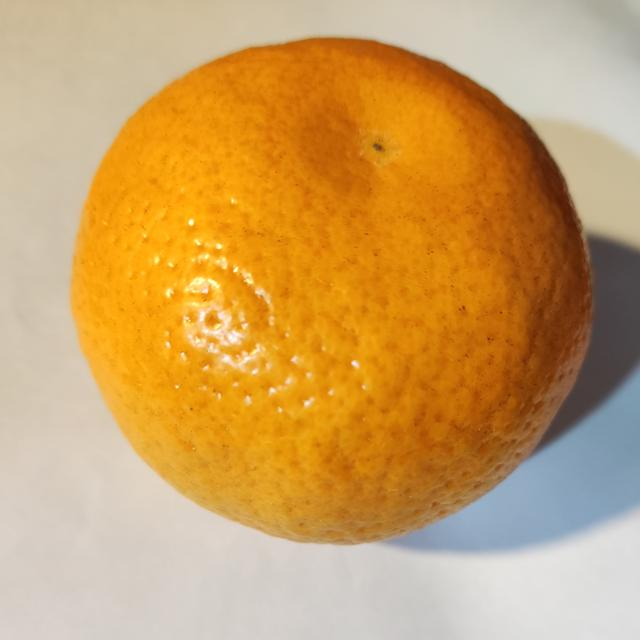orange: (72, 40, 590, 543)
